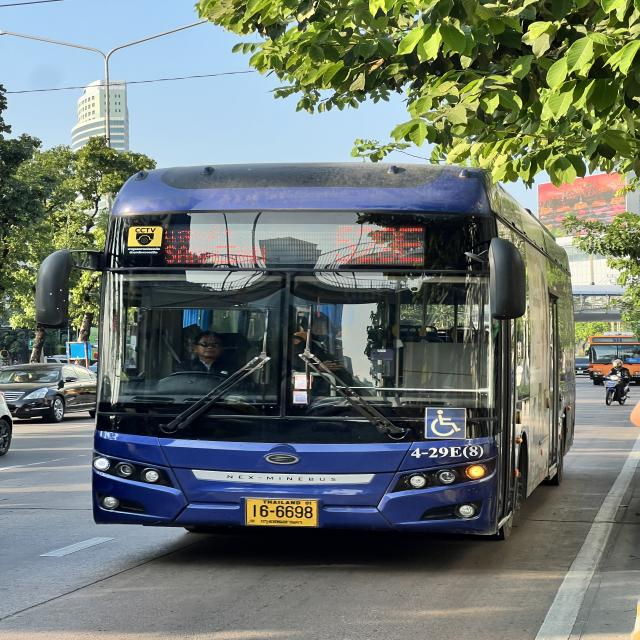BMTA-bus: (586, 330, 640, 386)
Bus-Line-Number: (327, 221, 431, 270), (610, 338, 624, 343)
Destination-Sign-Normal: (162, 221, 271, 266), (626, 357, 640, 363)
TSB-Bus: (83, 159, 582, 553)
